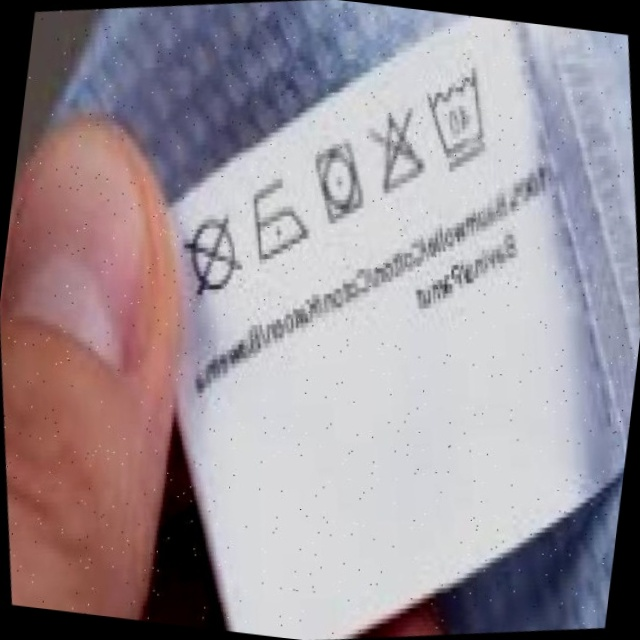40C: (412, 60, 511, 176)
DN_bleach: (356, 101, 441, 203)
DN_dry_clean: (169, 203, 257, 308)
iron_low: (236, 169, 321, 270)
tumble_dry_low: (302, 135, 378, 230)
